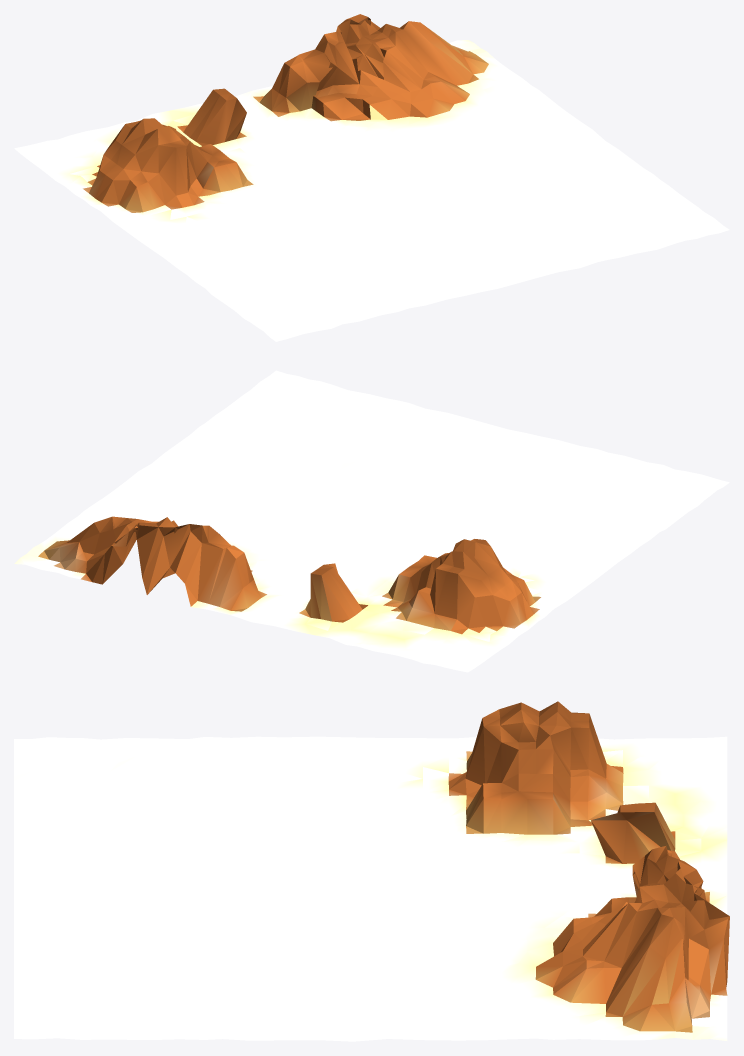
The model's file is desert.fbx.
3 views of the same model, one above another, from view 1: azimuth 30°, elevation 25°; view 2: azimuth 150°, elevation 25°; view 3: azimuth 270°, elevation 25° (orthographic). The views are drawn at different scales.
Parts seen in each view (by area): view 1: Plane; view 2: Plane; view 3: Plane.
Part boxes in pixels (left/top/right/bottom): Plane: left=14, top=14, right=729, bottom=341; Plane: left=14, top=370, right=729, bottom=672; Plane: left=14, top=701, right=729, bottom=1041.
Bounding box in the file's own units: 2347 × 333 × 2356.
